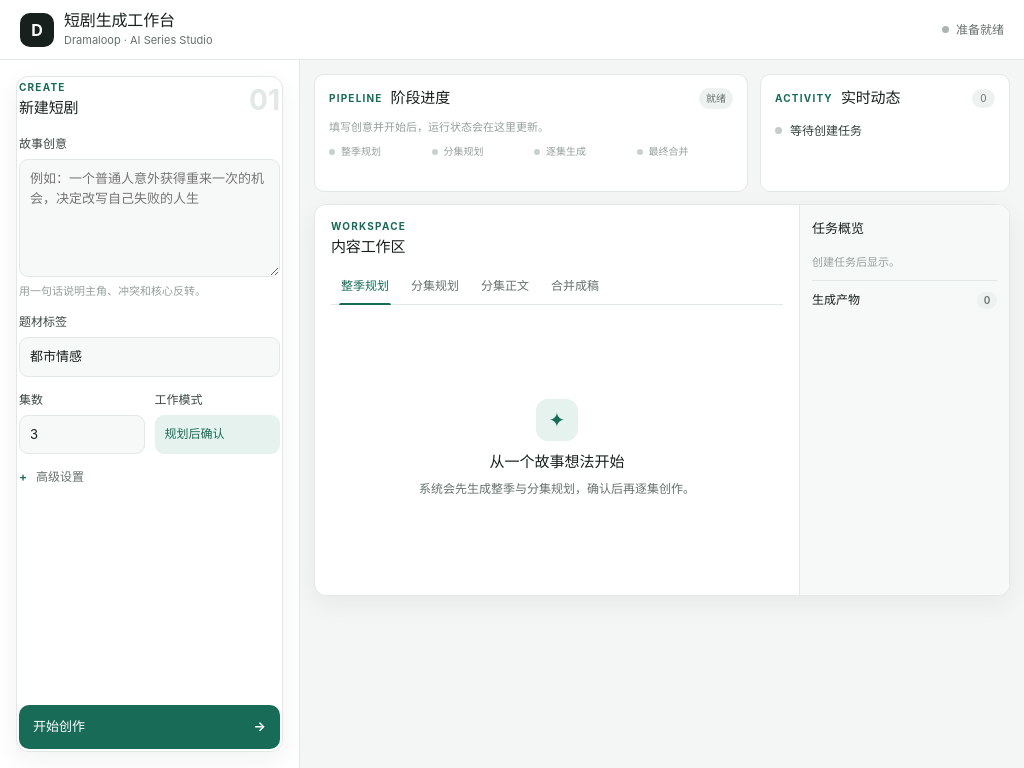
Scenario: keeps a transport outage in reconnecting state and recovers when SSE reopens
The image size is (1024, 768).
Type "断线后继续生成" into the text box named "idea" at (150, 218), box [19,159,280,276]
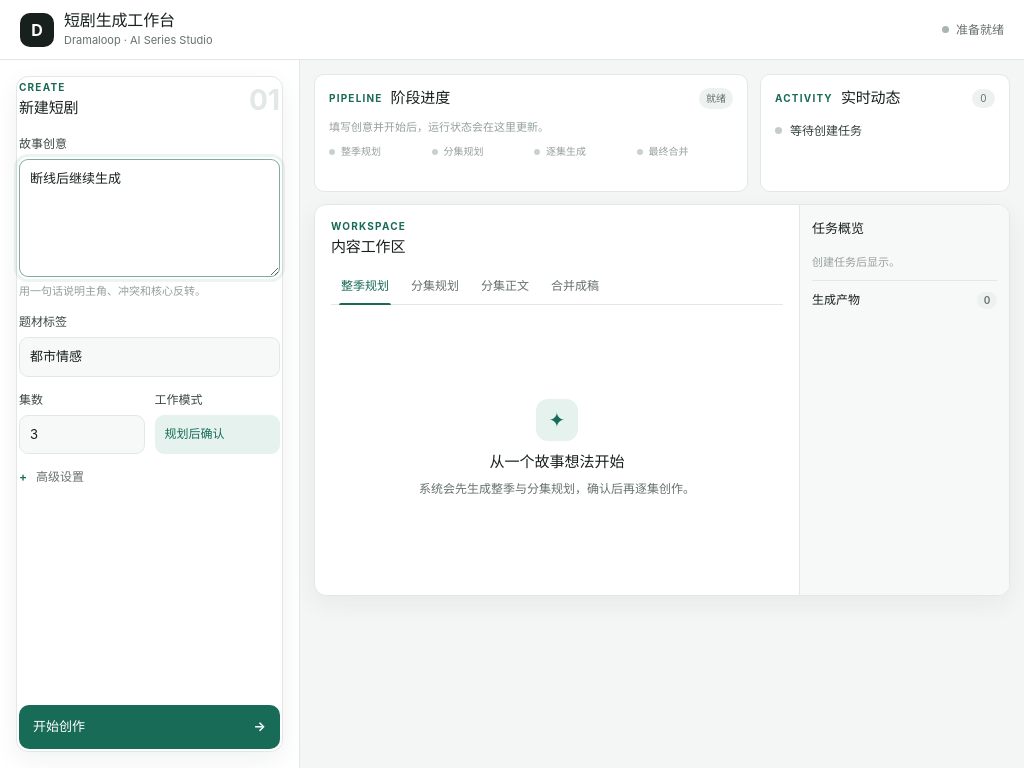
Click the button "开始创作 →" at (59, 726), box [19,705,280,749]
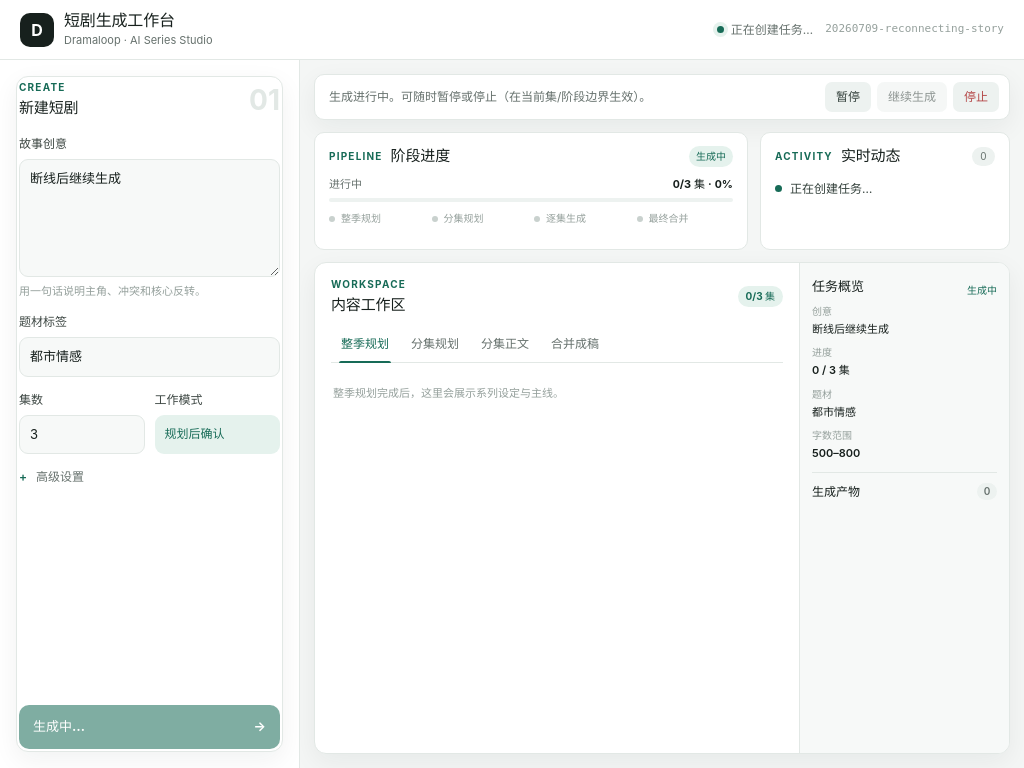
Expected: the text "重连中" in the row of "阶段进度" is shown, [689,146,733,167]
Expected: the text "生成中" in the row of "阶段进度" is shown, [696,150,726,162]
